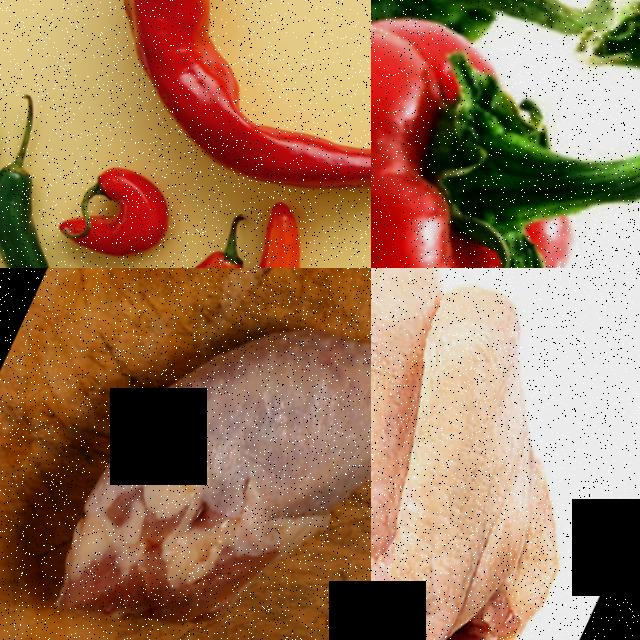chicken thigh: (18, 268, 371, 640)
chicken wing: (371, 268, 640, 640)
chilli: (36, 0, 371, 268), (371, 0, 612, 268), (47, 140, 185, 268), (190, 198, 339, 268), (0, 147, 80, 268), (119, 217, 251, 268)
